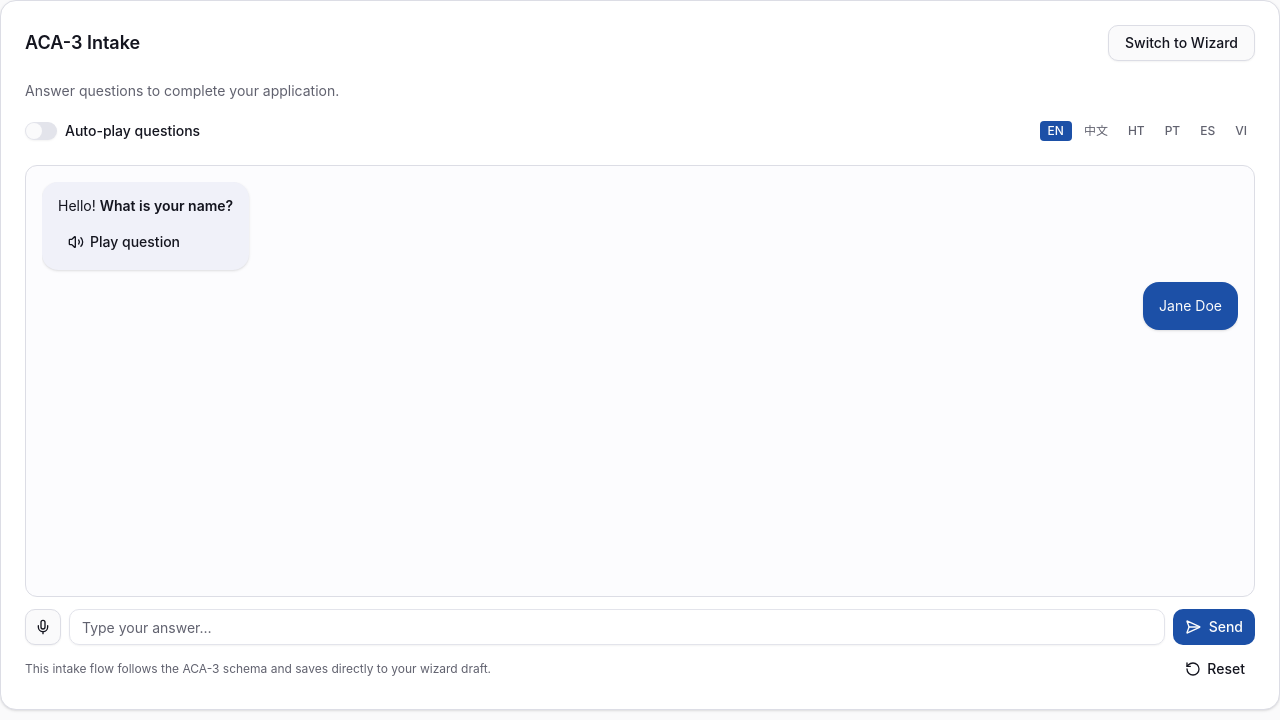
IntakeChatPanel › voice input in an insecure context › reports an HTTPS-required error instead of attempting speech recognition
Click the button named "Voice input". click: [43, 627]
box: [25, 609, 61, 645]
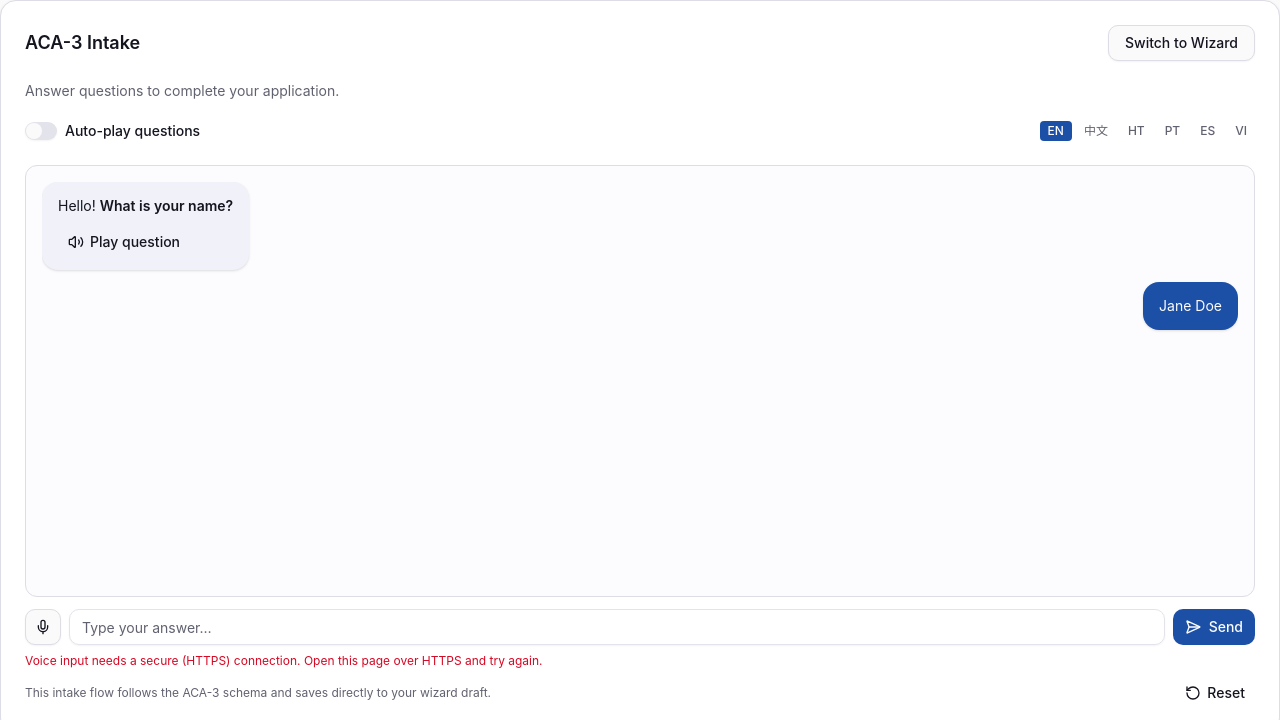
Expected: the message shows "secure (HTTPS) connection", [25, 653, 542, 668]
